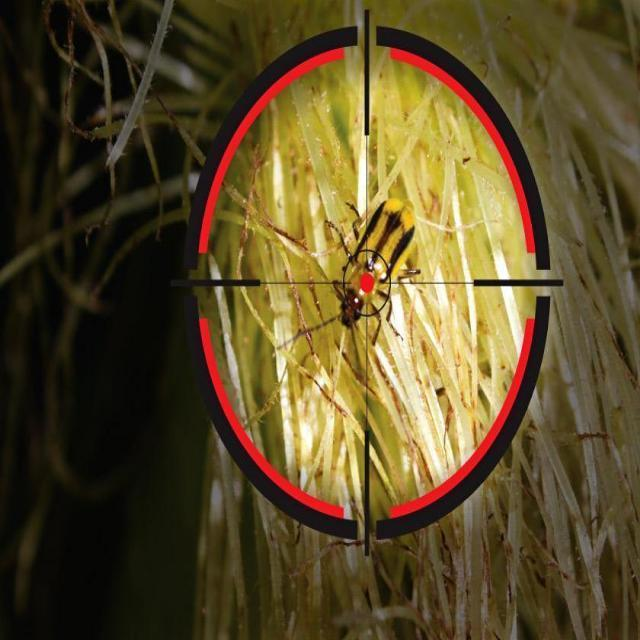trips: (317, 196, 425, 340)
